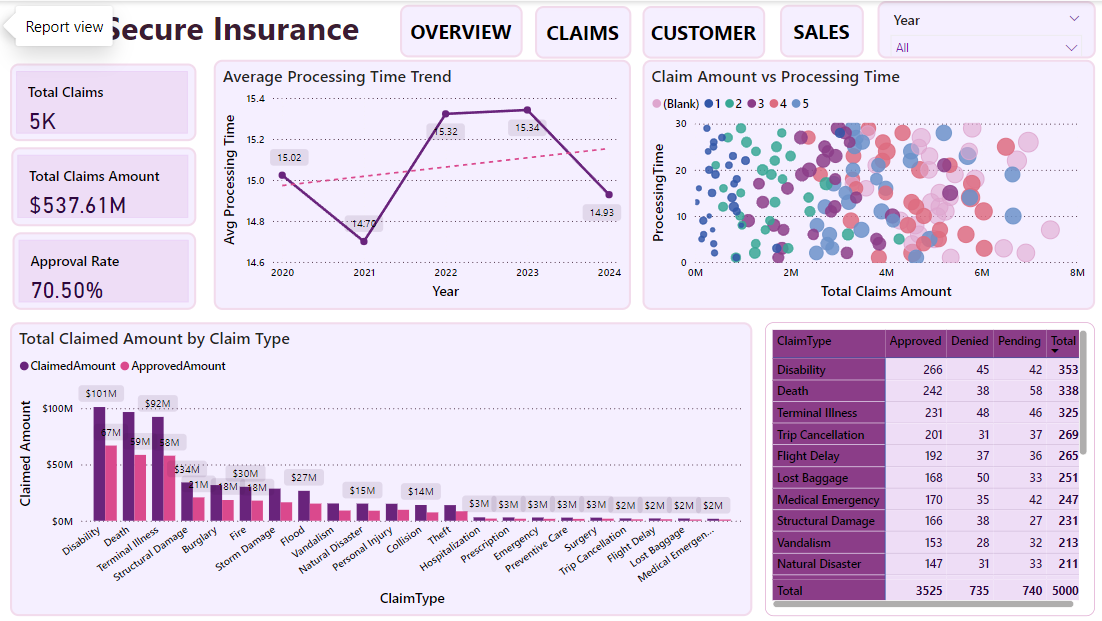

This screenshot's page, from the dashboard's own definition file:
{"tool":"powerbi","page":{"name":"Claims","canvas":[1280,720],"ordinal":1},"visuals":[{"type":"lineChart","title":"Average Processing Time Trend","fields":{"Category":["DateDim.Year"],"Y":["claims.Avg Processing Time"]},"box":[246.7,67.8,481.9,288.6],"z":0},{"type":"clusteredColumnChart","title":"Total Claimed Amount by Claim Type","fields":{"Category":["claims.ClaimType"],"Y":["Sum(claims.ClaimedAmount)","Sum(claims.ApprovedAmount)"]},"box":[11.5,370.8,857,339],"z":1000},{"type":"cardVisual","fields":{"Data":["claims.Total Claims"]},"box":[11.5,72.1,215,89.5],"z":2000},{"type":"cardVisual","fields":{"Data":["claims.Total Claims Amount"]},"box":[13,168.8,213.5,90.9],"z":3000},{"type":"slicer","fields":{"Values":["DateDim.Year"]},"box":[1013.3,0,251.7,66.7],"z":4000},{"type":"cardVisual","fields":{"Data":["claims.Claims Approval Rate"]},"box":[14.4,266.9,212.1,89.5],"z":5000},{"type":"shape","box":[461.7,4.3,141.4,60.6],"z":6000},{"type":"shape","box":[617.5,5.8,111.1,60.6],"z":7000},{"type":"shape","box":[741.6,5.8,141.4,60.6],"z":8000},{"type":"shape","box":[900.3,4.3,96.7,60.6],"z":9000},{"type":"textbox","box":[39,0,405.4,64.9],"z":10000},{"type":"pivotTable","fields":{"Rows":["claims.ClaimType"],"Columns":["claims.ClaimStatus"],"Values":["claims.Total Claims"]},"box":[883,370.8,380.9,339],"z":11000},{"type":"scatterChart","title":"Claim Amount vs Processing Time","fields":{"X":["claims.Total Claims Amount"],"Y":["claims.ProcessingTime"],"Size":["claims.Total Claims"],"Series":["claims.SatisfactionScore"]},"box":[741.6,67.8,522.3,288.6],"z":12000}]}

Visuals, with their boxes on the page's 1280x720 design canvas (x1, y1, x2, y2). These are canvas units, not pixel positions in the 1102x621 screenshot, which may show the page scaled, cropped or inside an application window:
"Average Processing Time Trend" lineChart: bbox=(247, 68, 729, 356)
"Total Claimed Amount by Claim Type" clusteredColumnChart: bbox=(12, 371, 868, 710)
cardVisual - claims.Total Claims: bbox=(12, 72, 226, 162)
cardVisual - claims.Total Claims Amount: bbox=(13, 169, 226, 260)
slicer - DateDim.Year: bbox=(1013, 0, 1265, 67)
cardVisual - claims.Claims Approval Rate: bbox=(14, 267, 226, 356)
shape: bbox=(462, 4, 603, 65)
shape: bbox=(618, 6, 729, 66)
shape: bbox=(742, 6, 883, 66)
shape: bbox=(900, 4, 997, 65)
textbox: bbox=(39, 0, 444, 65)
pivotTable - claims.ClaimType x claims.ClaimStatus: bbox=(883, 371, 1264, 710)
"Claim Amount vs Processing Time" scatterChart: bbox=(742, 68, 1264, 356)
